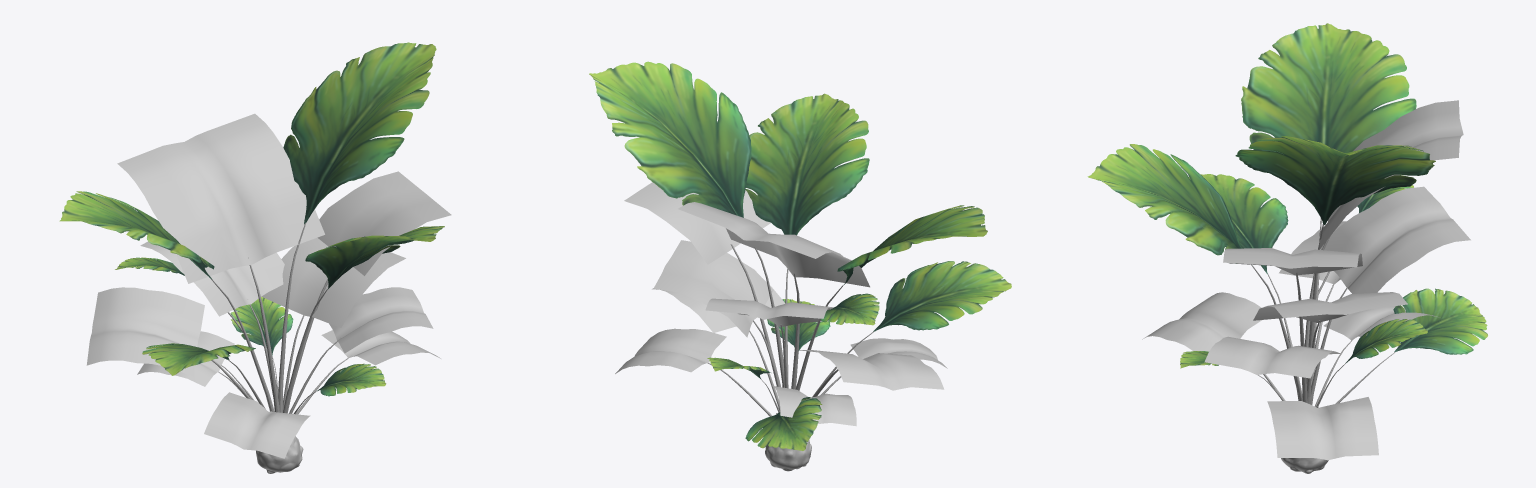
Rendered from BroadLeaf.fbx.
3 renders of one model, left to right at view 1: azimuth 30°, elevation 25°; view 2: azimuth 150°, elevation 25°; view 3: azimuth 270°, elevation 25°, orthographic. The views are drawn at different scales.
Visible parts, largest first — view 1: polySurface47, polySurface36, polySurface15, tropical_low1; view 2: polySurface36, polySurface47, polySurface15, tropical_low1; view 3: polySurface36, polySurface47, polySurface15, tropical_low1.
Part boxes in pixels (box(x1,y1,x2,y2)): polySurface47: box(86, 113, 451, 458); polySurface36: box(59, 42, 444, 396); polySurface15: box(211, 223, 351, 414); tropical_low1: box(256, 436, 303, 473); polySurface36: box(589, 61, 1011, 450); polySurface47: box(615, 182, 947, 426); polySurface15: box(707, 244, 874, 416); tropical_low1: box(765, 440, 811, 471); polySurface36: box(1087, 23, 1487, 368); polySurface47: box(1142, 100, 1470, 460); polySurface15: box(1251, 218, 1395, 408); tropical_low1: box(1281, 458, 1328, 473).
Bounding box in the file's own units: 767 × 701 × 661.
